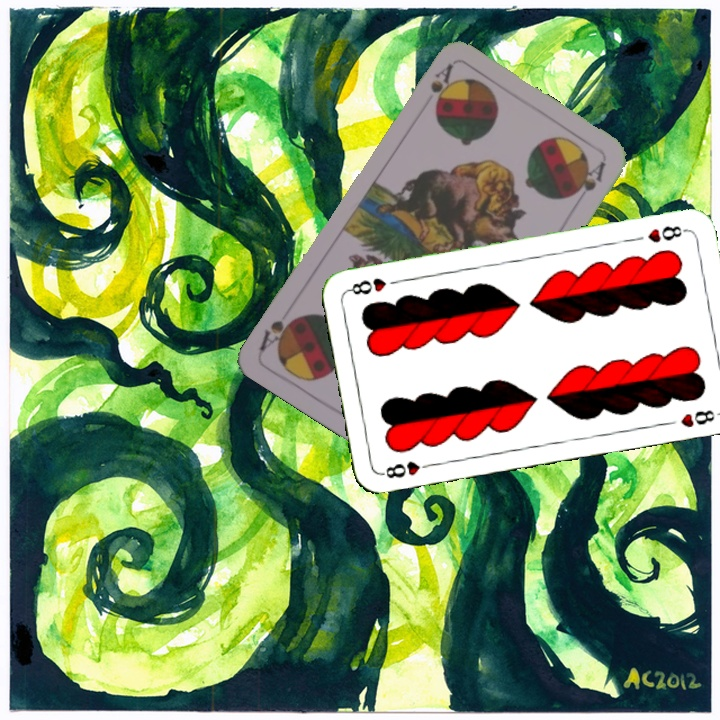H8: (377, 456, 436, 481), (643, 221, 689, 246)
SA: (426, 60, 455, 107)
